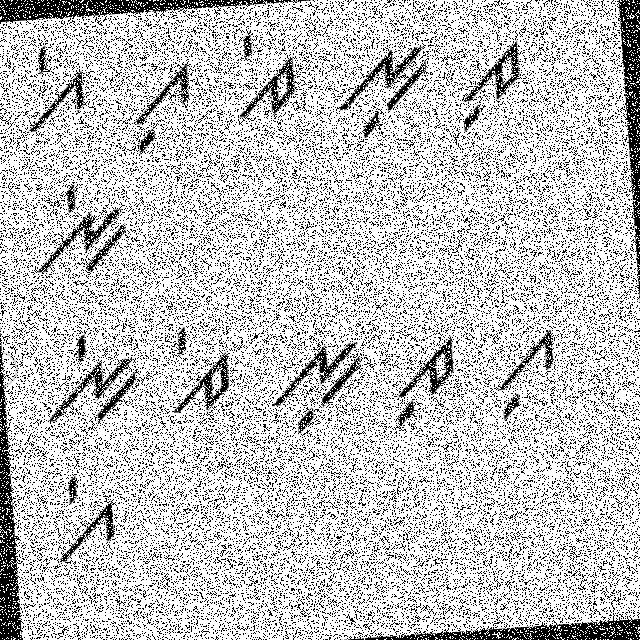ge: (46, 465, 128, 572), (12, 38, 96, 136)
gu: (484, 320, 562, 427), (126, 52, 201, 162)
nge: (23, 180, 135, 282), (36, 330, 143, 434)
ngu: (327, 36, 436, 144), (264, 326, 368, 436)
te: (227, 23, 306, 124), (160, 317, 238, 417)
tu: (384, 328, 464, 432), (452, 36, 530, 134)
